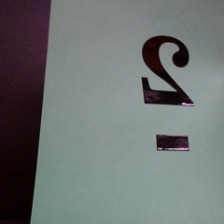green2: (137, 33, 206, 151)
